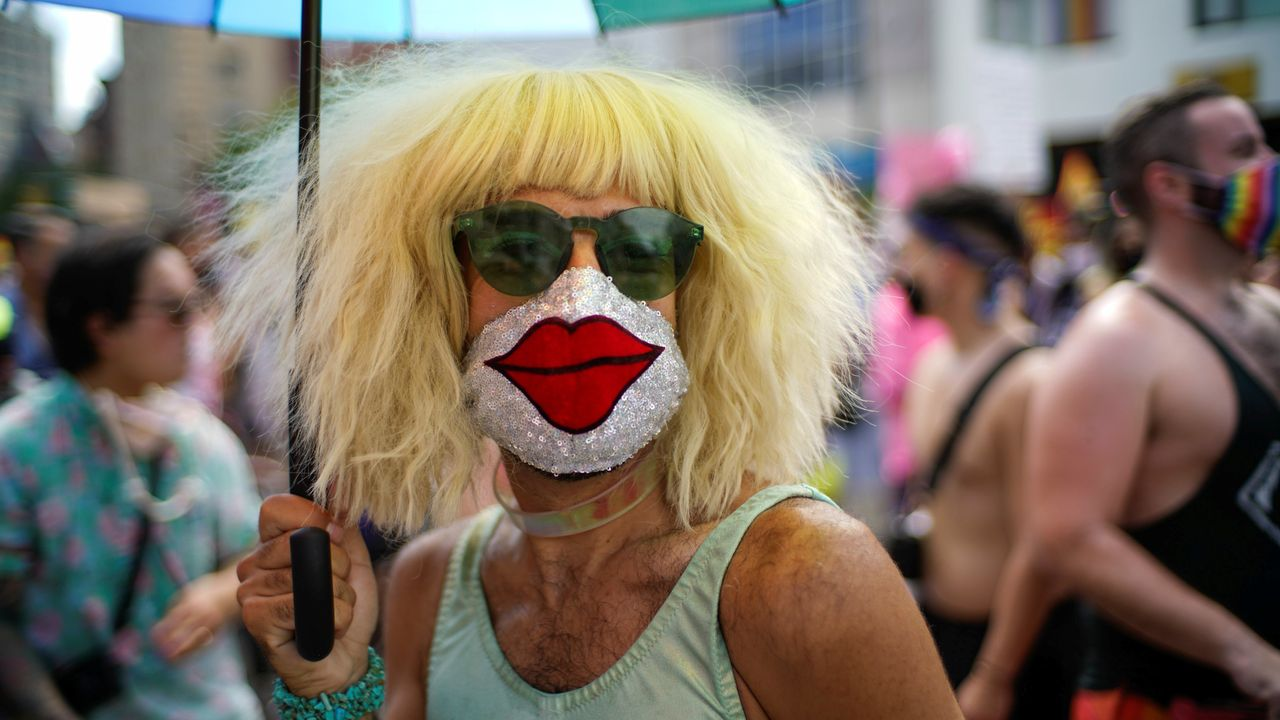with_mask: (451, 183, 681, 430), (1194, 120, 1280, 259)
